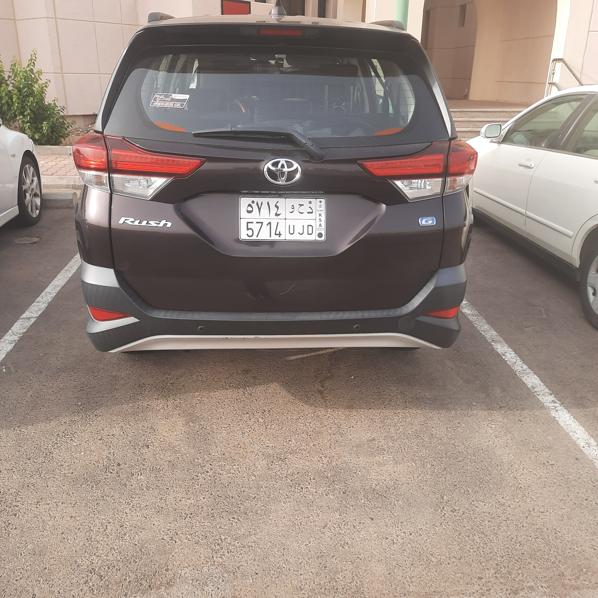numberplate: (240, 196, 327, 240)
